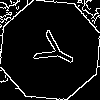Y: (25, 25, 81, 75)
